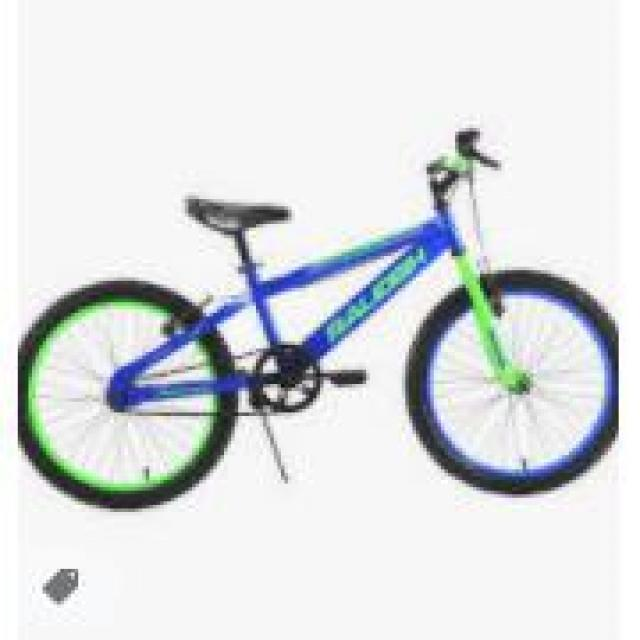bicycle: (33, 126, 627, 510)
